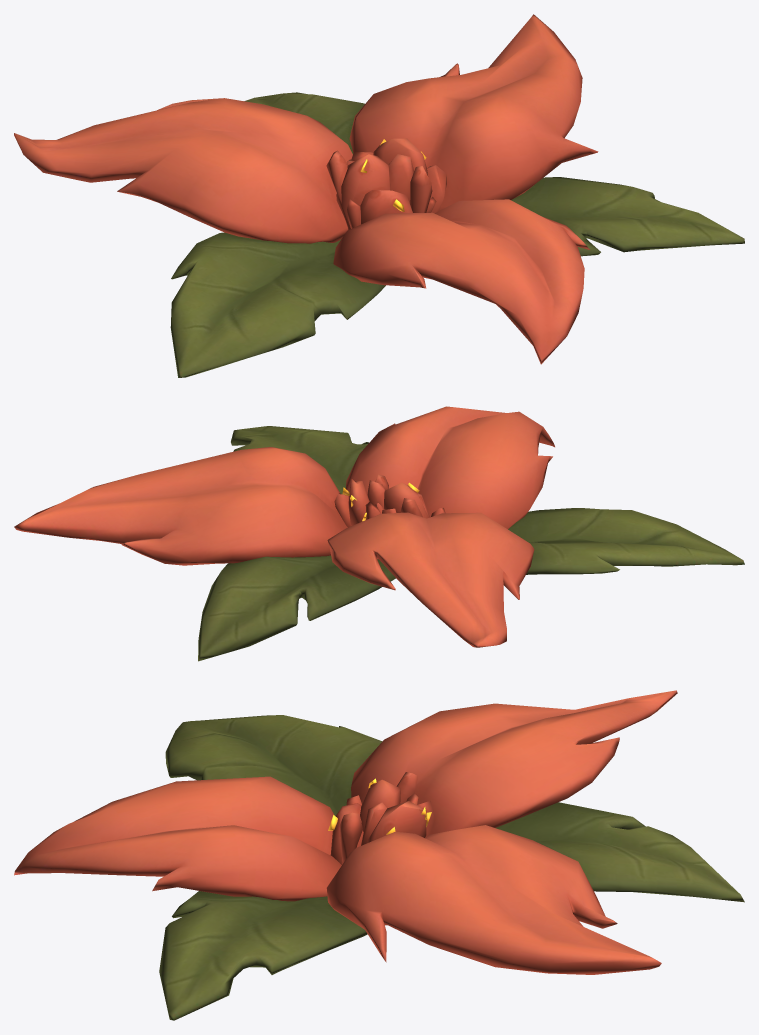
The model's file is bog_flower_a.glb.
The picture shows the model from 3 angles, top to bottom: view 1: azimuth 30°, elevation 25°; view 2: azimuth 150°, elevation 25°; view 3: azimuth 270°, elevation 25°; orthographic projection. The views are drawn at different scales.
Visible parts, largest first — view 1: SM_XBOG_STS_BogFlower_01A; view 2: SM_XBOG_STS_BogFlower_01A; view 3: SM_XBOG_STS_BogFlower_01A.
Part boxes in pixels (x1=…): SM_XBOG_STS_BogFlower_01A: x1=14, y1=14, x2=744, y2=377; SM_XBOG_STS_BogFlower_01A: x1=14, y1=406, x2=744, y2=661; SM_XBOG_STS_BogFlower_01A: x1=14, y1=690, x2=744, y2=1020.
Bounding box in the file's own units: 3.15 × 0.5867 × 3.19.
Materials: 1 (1 with a texture image).
